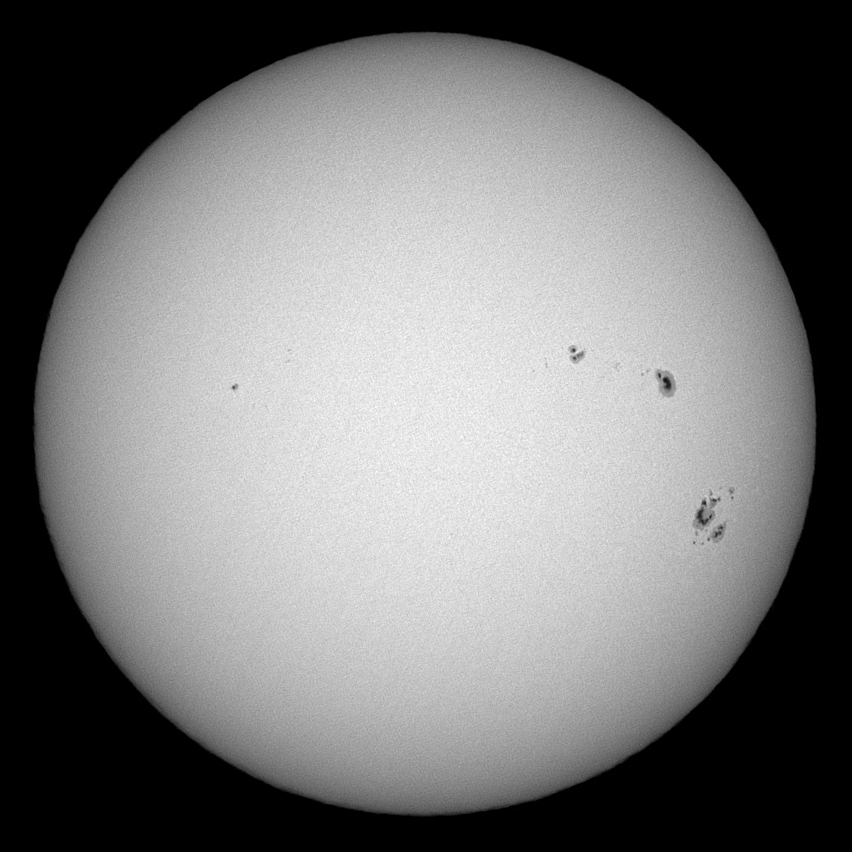sunspot: (691, 482, 738, 548), (650, 365, 684, 400), (565, 342, 588, 364), (226, 379, 242, 393)
